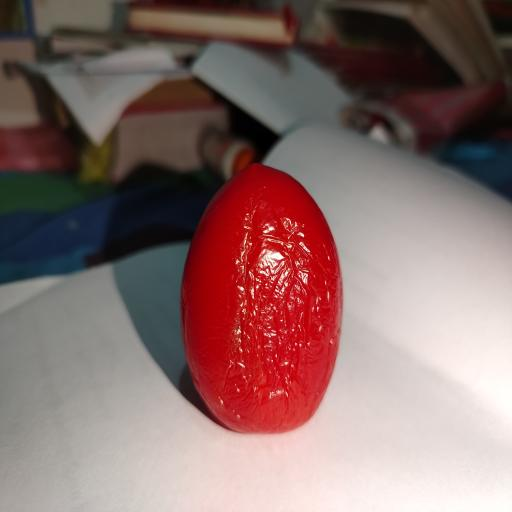spoiled: (181, 165, 342, 432)
